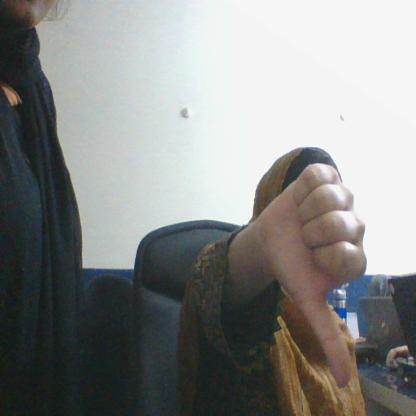thumbs-down: (293, 166, 375, 389)
